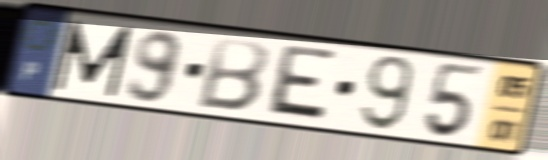5: (420, 58, 486, 141)
9: (355, 53, 418, 134), (125, 28, 185, 105)
B: (193, 34, 272, 114)
E: (261, 41, 341, 126)
M: (50, 17, 136, 100)
